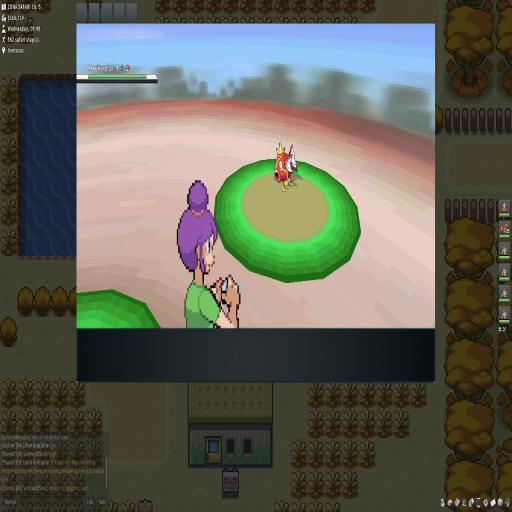MAGIKARP: (272, 143, 300, 193)
